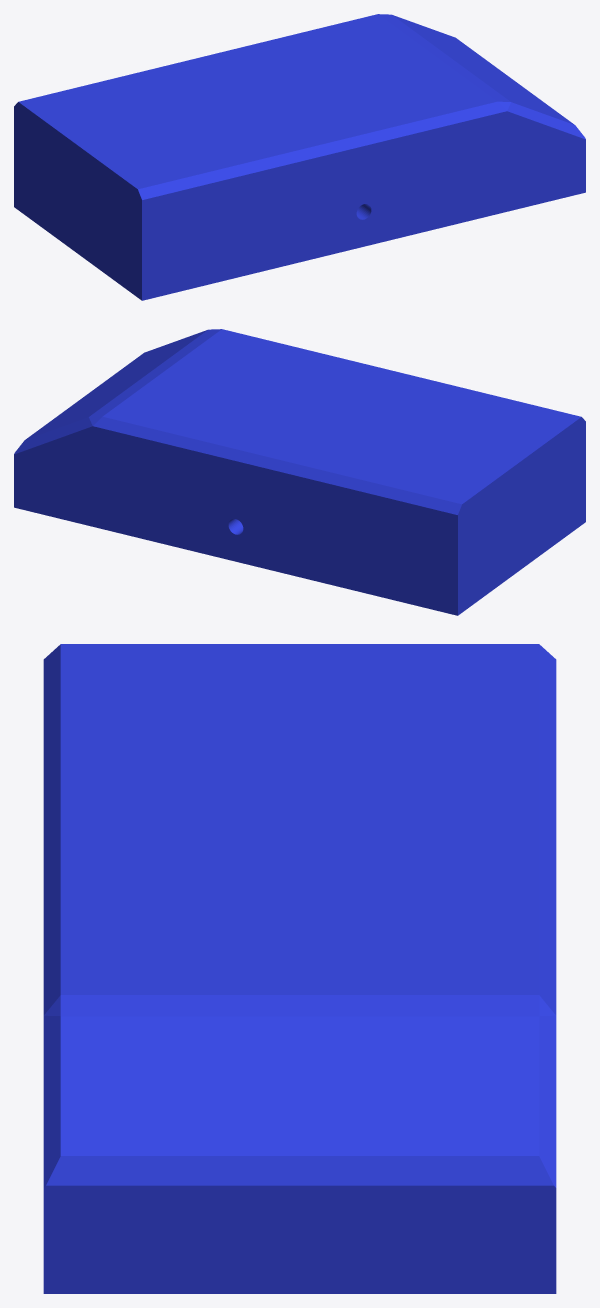
Rendered from body.dae.
3 views of the same model, one above another, from view 1: azimuth 30°, elevation 25°; view 2: azimuth 150°, elevation 25°; view 3: azimuth 270°, elevation 25° (orthographic). The views are drawn at different scales.
Parts seen in each view (by area): view 1: Body; view 2: Body; view 3: Body.
Boxes of the visible parts, x1,y1,x2,y2 form: Body: [14, 14, 585, 300]; Body: [14, 329, 585, 615]; Body: [43, 644, 556, 1293].
Size of the model in its own units: 0.6 by 0.3 by 0.14.
